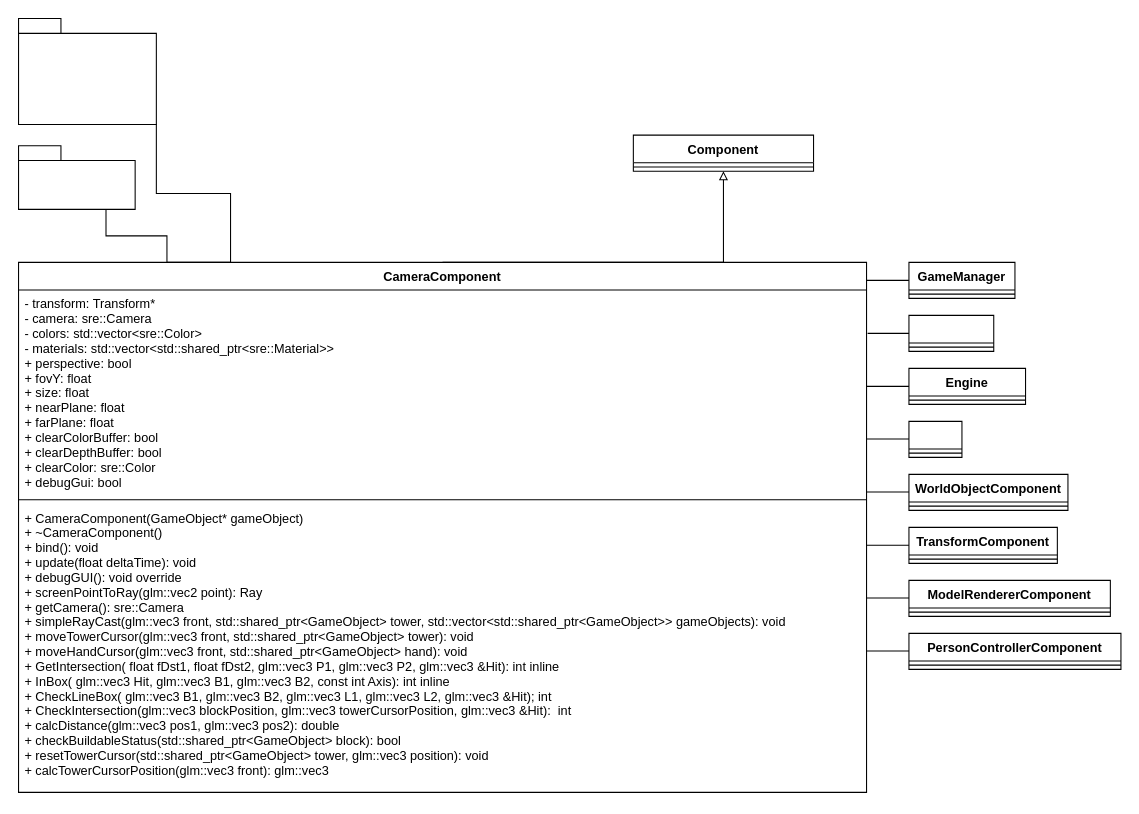
Image size: 1139x814. Some labels were removed from this diagram. The box of each missing label's shape, as (x1, y1, x2, y2) in pixels:
OpenGL Mathematics: (17, 17, 156, 125)
Ray: (908, 420, 962, 457)
Scene: (908, 314, 994, 351)
SRE renderer: (17, 145, 135, 209)
